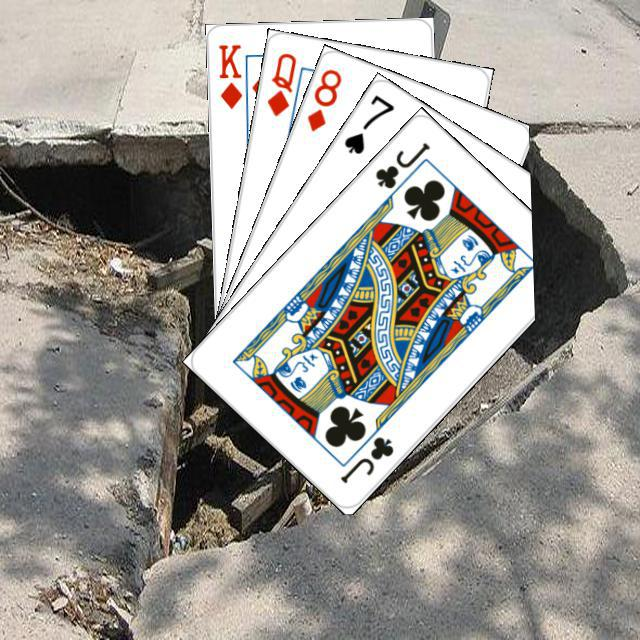7s: (339, 90, 396, 157)
8d: (302, 64, 344, 133)
Jc: (370, 137, 432, 191), (335, 431, 396, 485)
Kd: (214, 39, 243, 110)
Qd: (262, 48, 298, 118)
